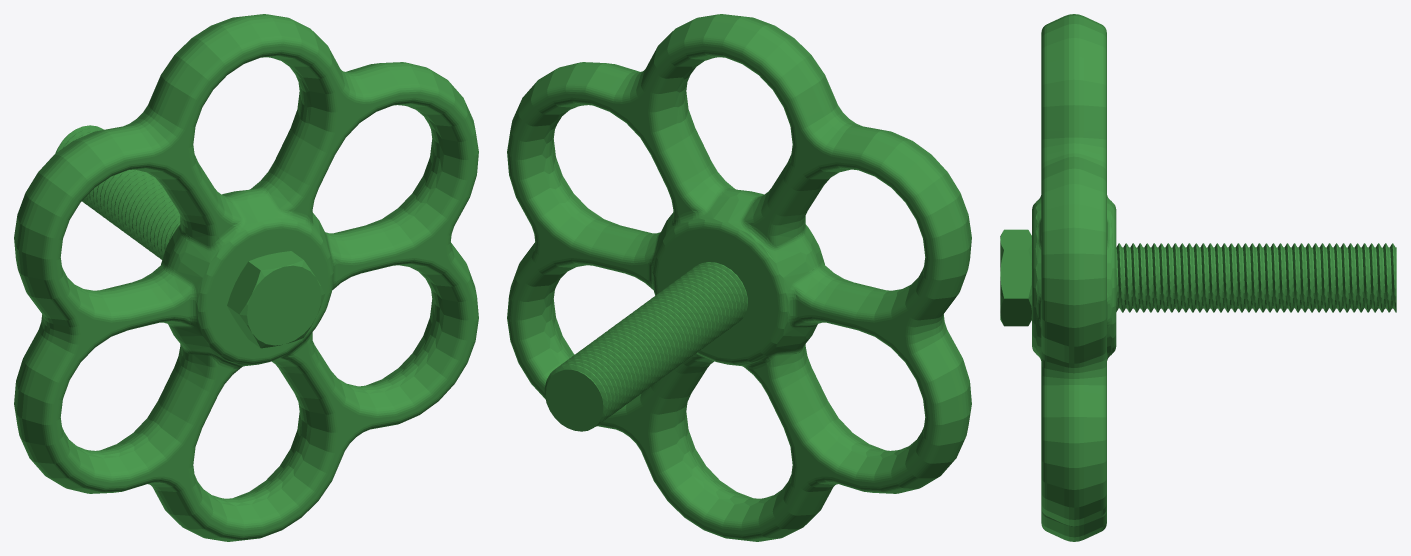
File: Corpo1__1_.obj
3 renders of one model, left to right at view 1: azimuth 30°, elevation 25°; view 2: azimuth 150°, elevation 25°; view 3: azimuth 270°, elevation 25°, orthographic. The views are drawn at different scales.
Bounding box in the file's own units: 0.11 × 0.12 × 0.0848.
